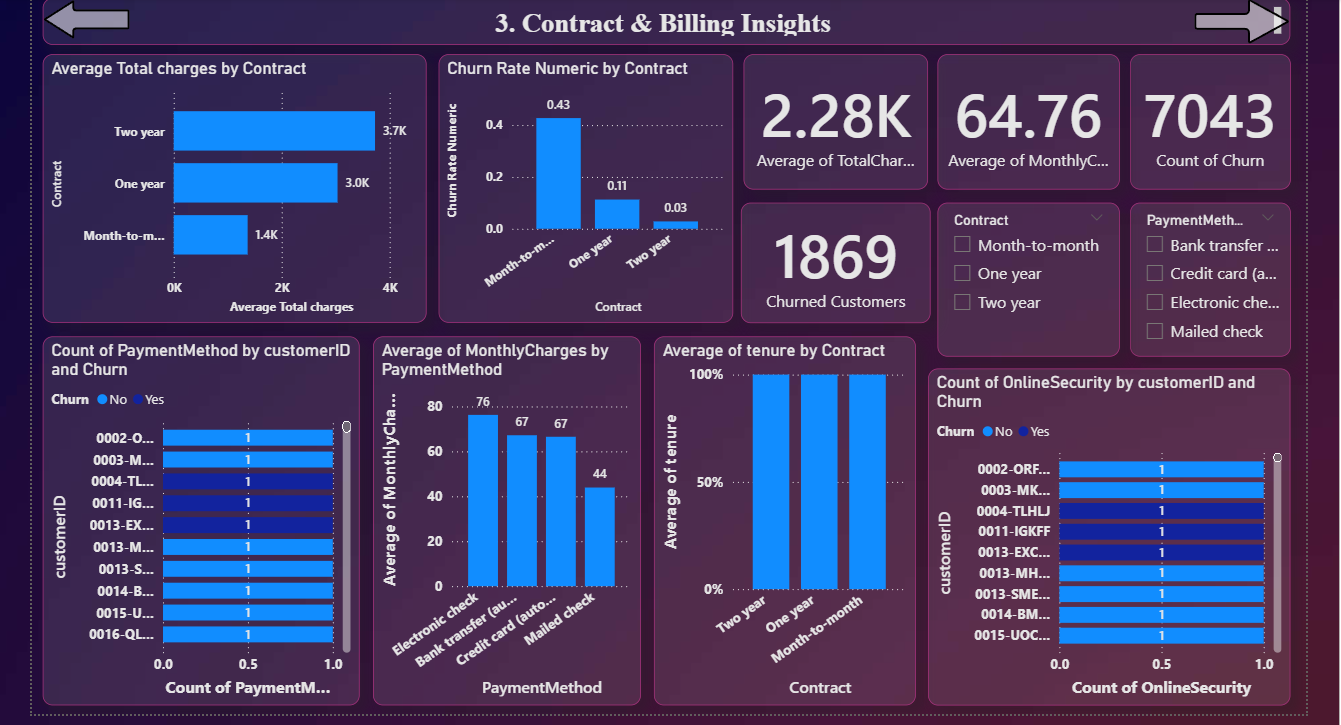

This screenshot's page, from the dashboard's own definition file:
{"tool":"powerbi","page":{"name":"Page 3","canvas":[1280,720],"ordinal":2},"visuals":[{"type":"textbox","box":[10.8,0,1254.1,47],"z":0},{"type":"columnChart","fields":{"Category":["cca data set.Contract"],"Y":["cca data set.Churn Rate Numeric"]},"box":[408.6,56.5,295.7,270.2],"z":1000},{"type":"barChart","fields":{"Y":["CountNonNull(cca data set.PaymentMethod)"],"Category":["cca data set.customerID"],"Series":["cca data set.Churn"]},"box":[10.8,340.1,318.6,371],"z":2000},{"type":"barChart","fields":{"Category":["cca data set.Contract"],"Y":["cca data set.Average Total charges"]},"box":[10.8,56.5,385.8,270.2],"z":3000},{"type":"clusteredColumnChart","fields":{"Category":["cca data set.PaymentMethod"],"Y":["Avg(cca data set.MonthlyCharges)"]},"box":[342.8,340.1,268.8,371],"z":4000},{"type":"card","fields":{"Values":["cca data set.Churned Customers"]},"box":[712.4,205.7,190.9,121],"z":5000},{"type":"card","fields":{"Values":["CountNonNull(cca data set.Churn)"]},"box":[1103.6,56.5,161.3,135.8],"z":6000},{"type":"card","fields":{"Values":["Avg(cca data set.TotalCharges)"]},"box":[715.1,56.5,185.5,135.8],"z":7000},{"type":"card","fields":{"Values":["Avg(cca data set.MonthlyCharges)"]},"box":[910,56.5,182.8,135.8],"z":8000},{"type":"slicer","fields":{"Values":["cca data set.PaymentMethod"]},"box":[1103.6,205.7,161.3,154.6],"z":9000},{"type":"slicer","fields":{"Values":["cca data set.Contract"]},"box":[910,205.7,182.8,154.6],"z":10000},{"type":"hundredPercentStackedColumnChart","fields":{"Category":["cca data set.Contract"],"Y":["Avg(cca data set.tenure)"]},"box":[625,340.1,263.5,371],"z":11000},{"type":"barChart","fields":{"Category":["cca data set.customerID"],"Y":["CountNonNull(cca data set.OnlineSecurity)"],"Series":["cca data set.Churn"]},"box":[900.6,372.3,364.3,338.7],"z":12000},{"type":"shape","box":[1168.1,0,96.8,47],"z":13000},{"type":"shape","box":[10.8,1.3,87.4,40.3],"z":14000}]}

Visuals, with their boxes on the page's 1280x720 design canvas (x1, y1, x2, y2). These are canvas units, not pixel positions in the 1341x725 screenshot, which may show the page scaled, cropped or inside an application window:
textbox: {"x1": 11, "y1": 0, "x2": 1265, "y2": 47}
columnChart - cca data set.Contract x cca data set.Churn Rate Numeric: {"x1": 409, "y1": 56, "x2": 704, "y2": 327}
barChart - CountNonNull(cca data set.PaymentMethod) x cca data set.customerID: {"x1": 11, "y1": 340, "x2": 329, "y2": 711}
barChart - cca data set.Contract x cca data set.Average Total charges: {"x1": 11, "y1": 56, "x2": 397, "y2": 327}
clusteredColumnChart - cca data set.PaymentMethod x Avg(cca data set.MonthlyCharges): {"x1": 343, "y1": 340, "x2": 612, "y2": 711}
card - cca data set.Churned Customers: {"x1": 712, "y1": 206, "x2": 903, "y2": 327}
card - CountNonNull(cca data set.Churn): {"x1": 1104, "y1": 56, "x2": 1265, "y2": 192}
card - Avg(cca data set.TotalCharges): {"x1": 715, "y1": 56, "x2": 901, "y2": 192}
card - Avg(cca data set.MonthlyCharges): {"x1": 910, "y1": 56, "x2": 1093, "y2": 192}
slicer - cca data set.PaymentMethod: {"x1": 1104, "y1": 206, "x2": 1265, "y2": 360}
slicer - cca data set.Contract: {"x1": 910, "y1": 206, "x2": 1093, "y2": 360}
hundredPercentStackedColumnChart - cca data set.Contract x Avg(cca data set.tenure): {"x1": 625, "y1": 340, "x2": 888, "y2": 711}
barChart - cca data set.customerID x CountNonNull(cca data set.OnlineSecurity): {"x1": 901, "y1": 372, "x2": 1265, "y2": 711}
shape: {"x1": 1168, "y1": 0, "x2": 1265, "y2": 47}
shape: {"x1": 11, "y1": 1, "x2": 98, "y2": 42}
